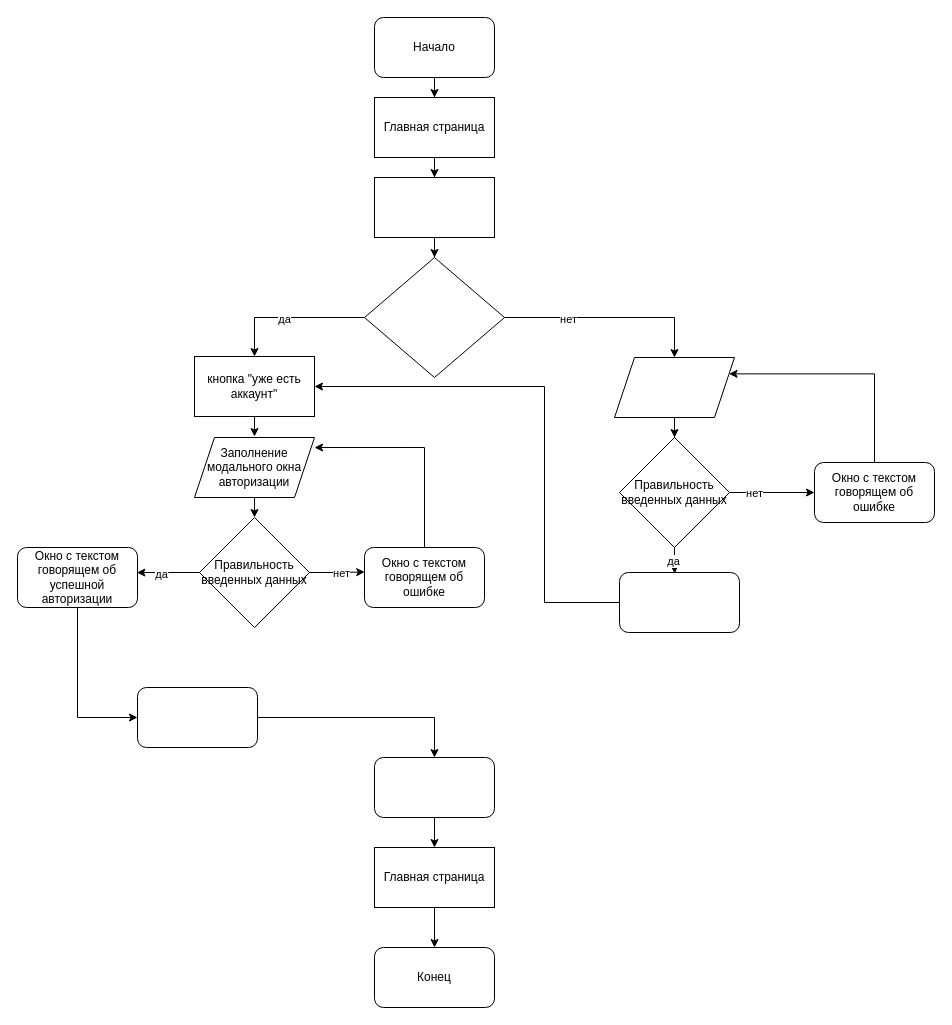
The diagram is 952 pixels wide and 1025 high, and some of its shapes have lost their labels. Each missing label, with the centre of its shape:
Выход с данного модального окна: the point at 434,787
Заполнение модального окна регистрации: the point at 674,387
Модальное окно для перехода в профиль: the point at 197,717
Нажатие по кнопке "Профиль": the point at 434,207
Окно с текстом говорящем об успешной регистрации: the point at 679,602
Проверка на пройденную регистрацию пользователя: the point at 434,317
